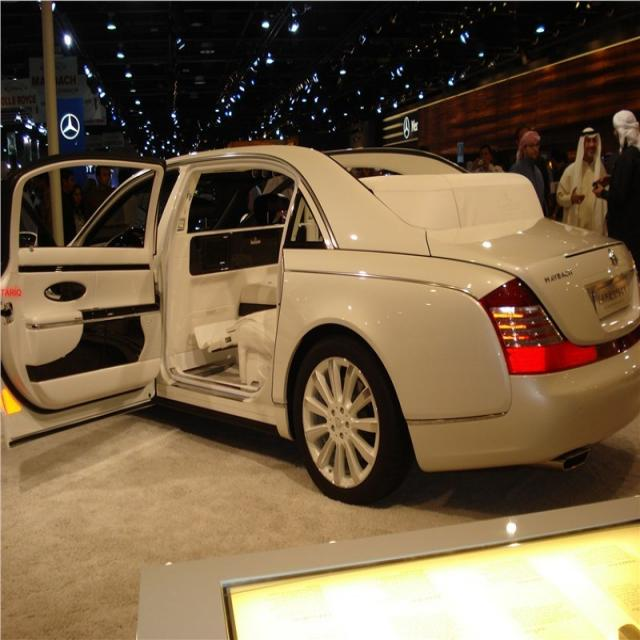car: (0, 144, 639, 503)
